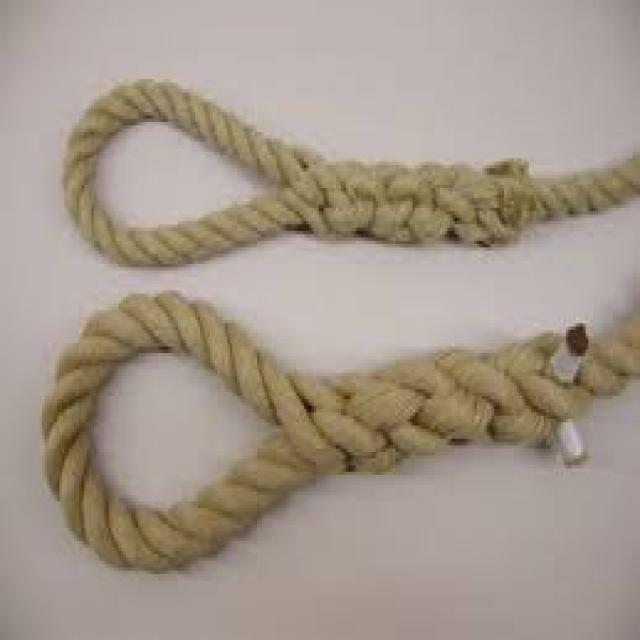rope: (43, 292, 600, 570), (66, 83, 640, 266)
